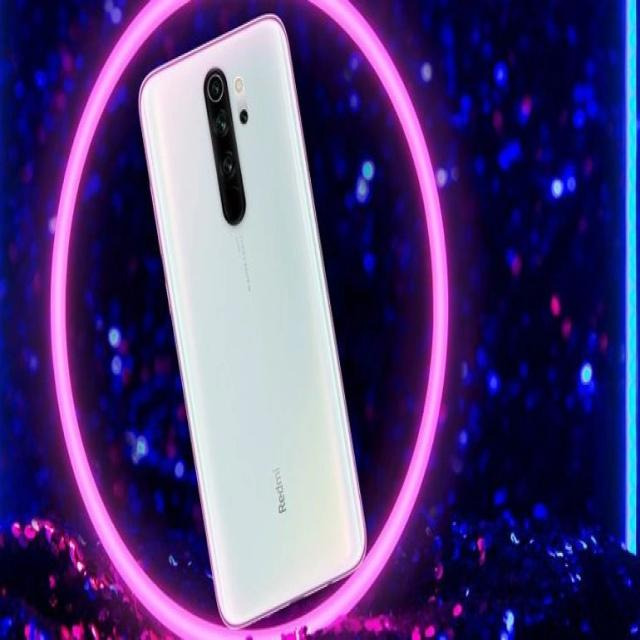Red Mi Note 8 Pro: (135, 15, 370, 636)
